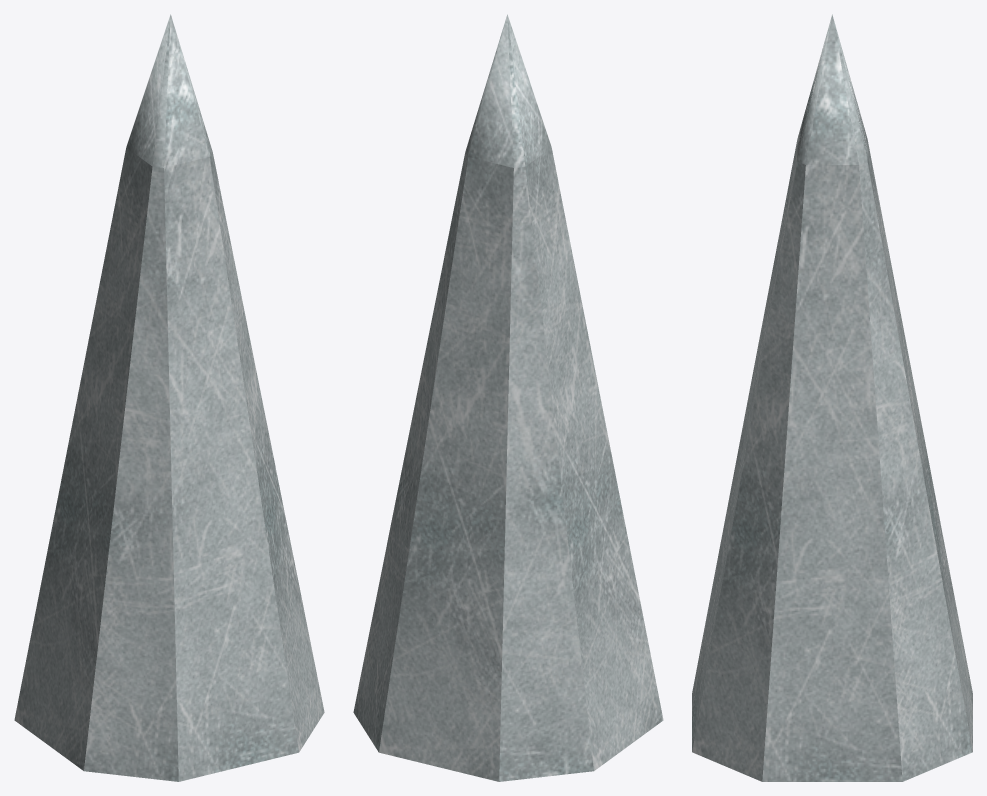
File: icicle.FBX
The picture shows the model from 3 angles, left to right: view 1: azimuth 30°, elevation 25°; view 2: azimuth 150°, elevation 25°; view 3: azimuth 270°, elevation 25°; orthographic projection.
Visible parts, largest first — view 1: Object001; view 2: Object001; view 3: Object001.
Part boxes in pixels (x1,y1,x2,y2): Object001: (14, 14, 324, 781); Object001: (353, 14, 663, 781); Object001: (692, 14, 972, 781).
Size of the model in its own units: 4 by 11.15 by 4.
Materials: 1 (1 with a texture image).
